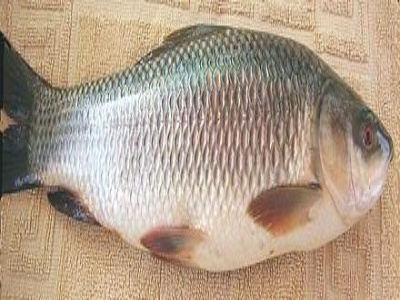rohu: (2, 20, 397, 279)
